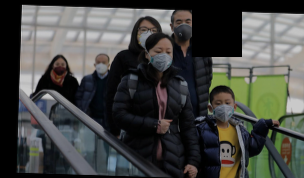with_mask: (145, 44, 173, 73), (210, 96, 235, 123), (170, 15, 194, 41), (134, 23, 158, 49), (93, 58, 110, 75), (51, 59, 66, 77)
